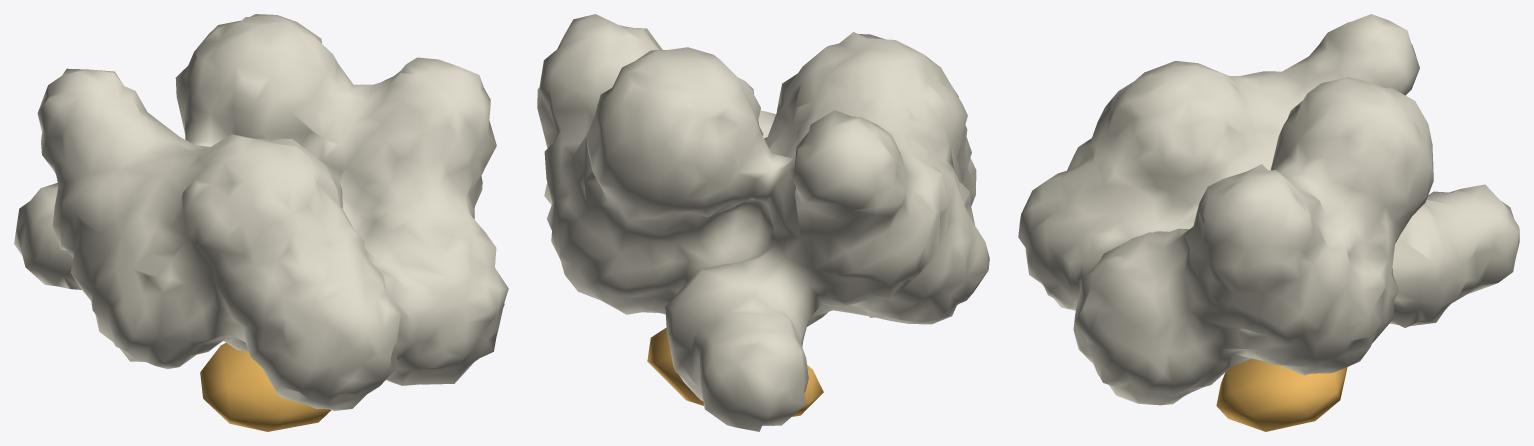
Rendered from Popcorn.fbx.
3 renders of one model, left to right at view 1: azimuth 30°, elevation 25°; view 2: azimuth 150°, elevation 25°; view 3: azimuth 270°, elevation 25°, orthographic. The views are drawn at different scales.
Parts seen in each view (by area): view 1: Popcorn_Plant; view 2: Popcorn_Plant; view 3: Popcorn_Plant.
Boxes of the visible parts, <box> form: Popcorn_Plant: <box>14,14,508,431</box>; Popcorn_Plant: <box>537,14,989,431</box>; Popcorn_Plant: <box>1018,14,1519,431</box>.
Bounding box in the file's own units: 0.8656 × 0.7529 × 0.9935.
